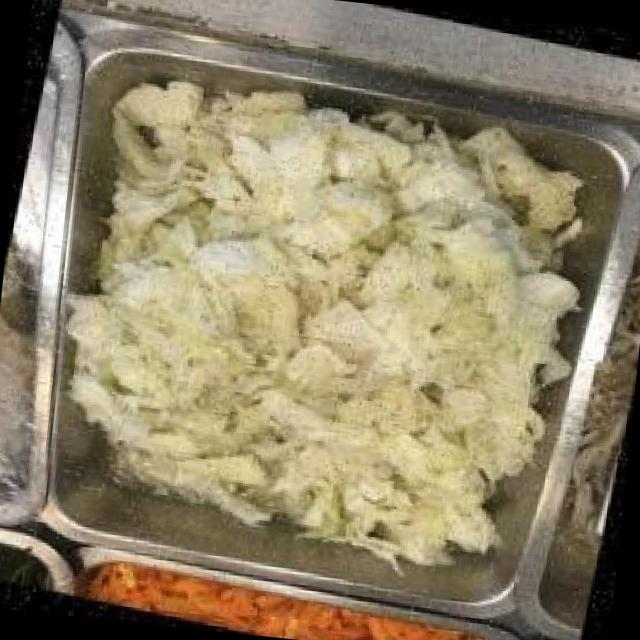carrot_eggs: (102, 559, 474, 640)
chinese_cabbage: (51, 75, 569, 562)
mung_bean_sprouts: (560, 357, 638, 535)
